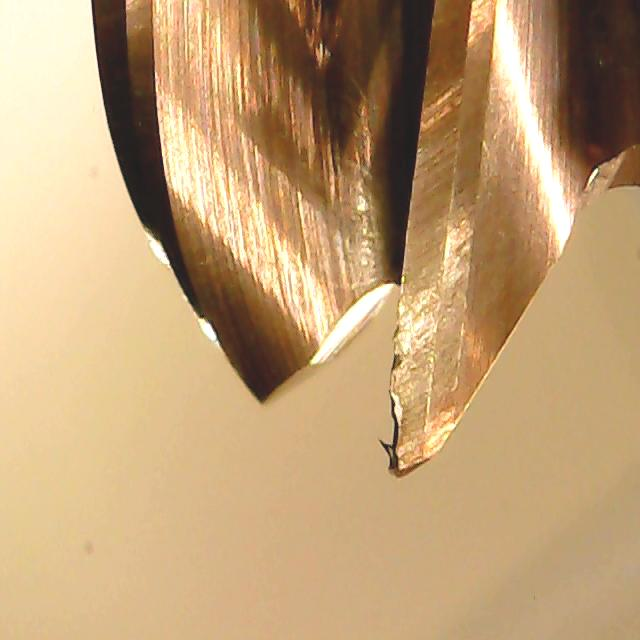Tool-wear-class-1: (373, 205, 483, 483)
